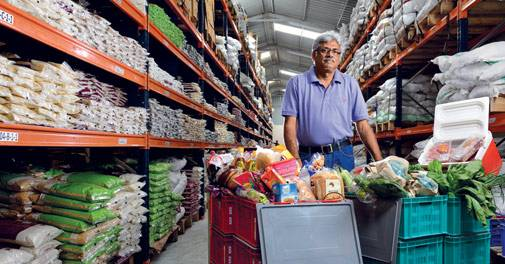Age_above_50: (315, 37, 343, 69)
E_Indian: (315, 37, 343, 69)
Emotion_Neutral: (315, 37, 343, 69)
G_Male: (315, 37, 343, 69)
